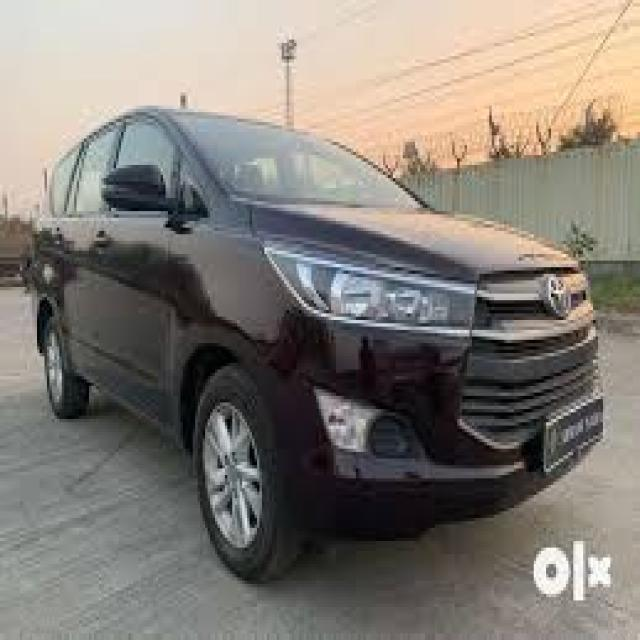light_vehicle: (33, 104, 603, 583)
